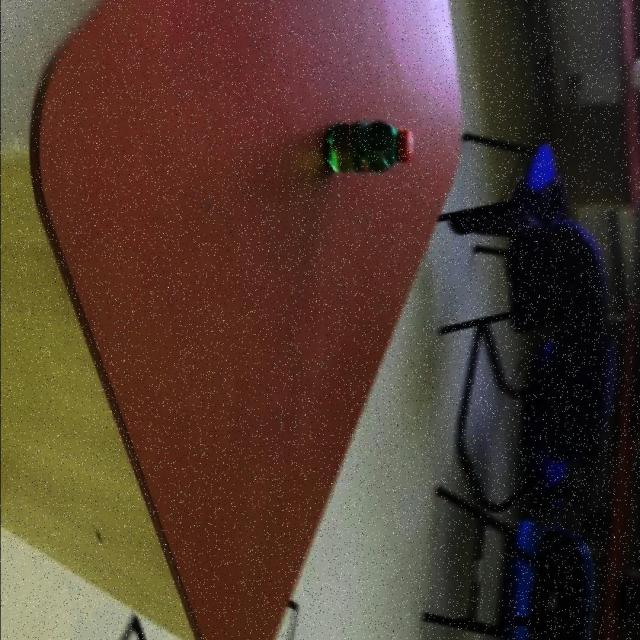Guarana: (325, 120, 415, 177)
